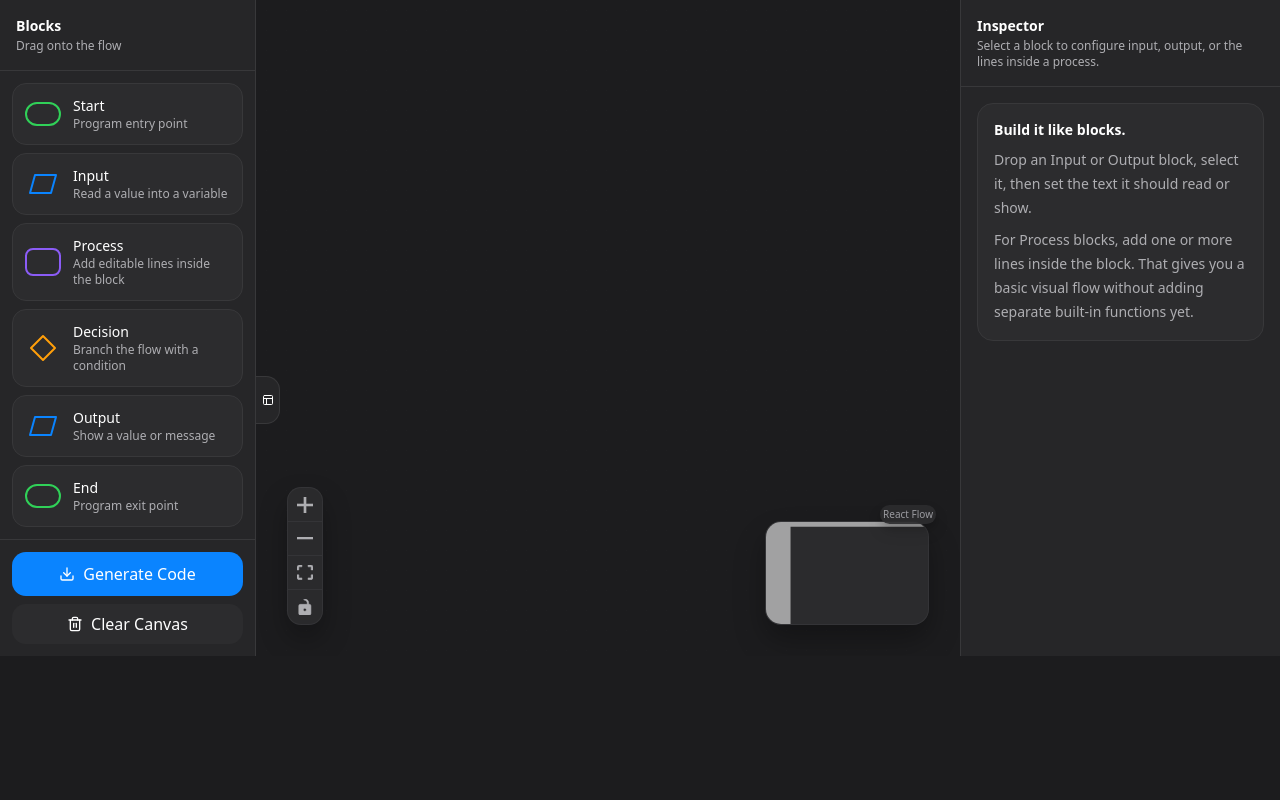
Scenario: FlowchartEditor › labels the palette toggle as a button
Click the button named "Hide palette" at (268, 400), box [256,376,280,424]
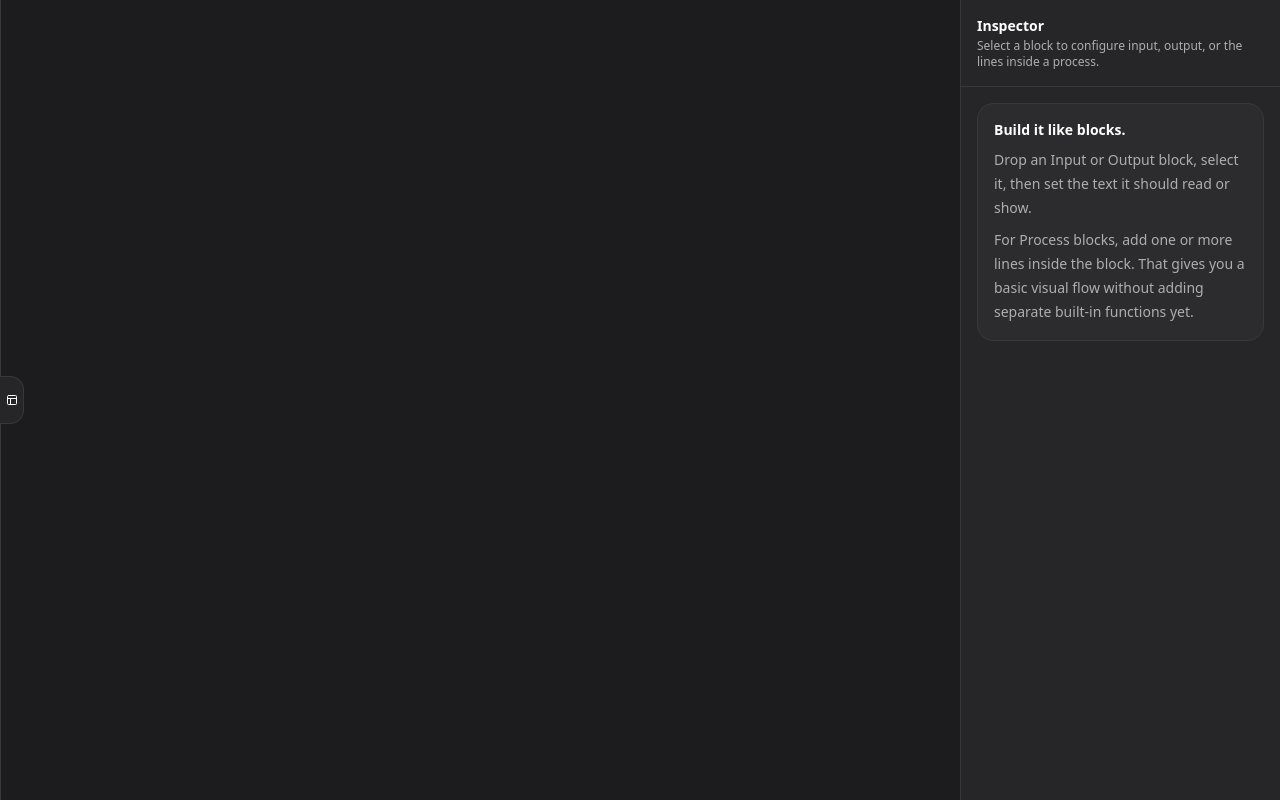
Expected: the button named "Show palette" is collapsed, [0,376,24,424]
